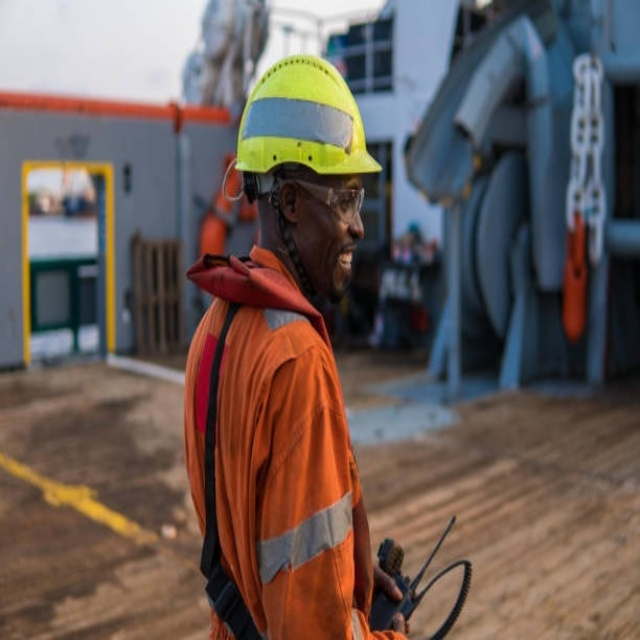Gafas: (280, 177, 366, 213)
Sin_mascara: (327, 237, 361, 293)
